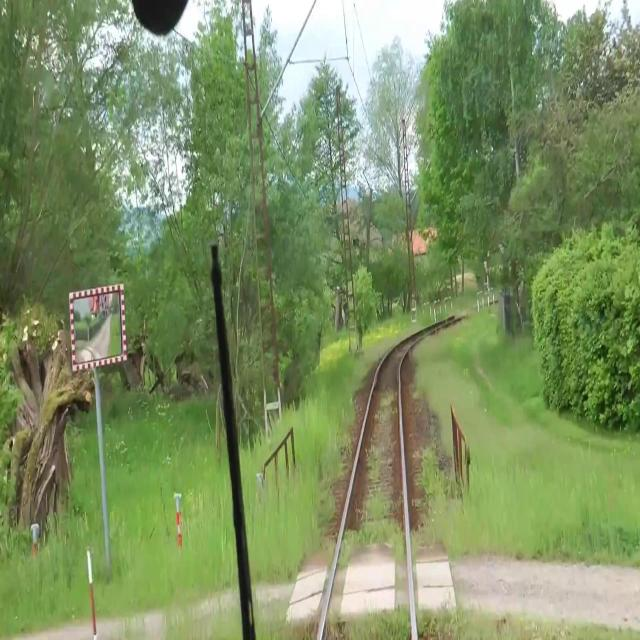rail-track: (322, 324, 441, 639)
